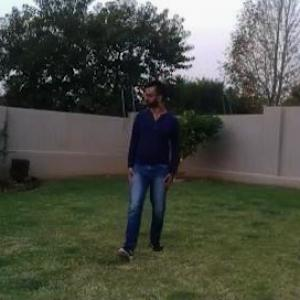follow: (124, 69, 178, 252)
